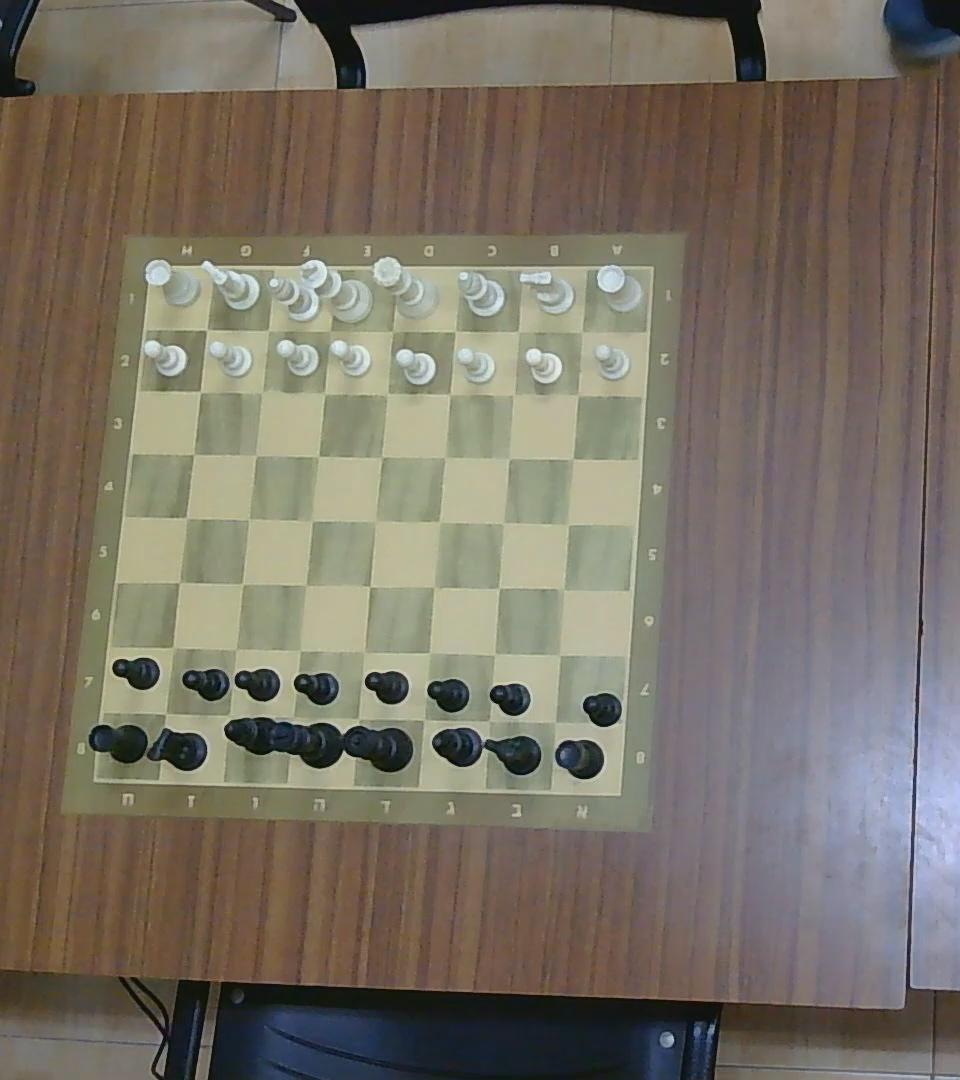xcorner: (345, 707, 369, 733), (154, 701, 178, 725), (217, 703, 240, 727), (543, 711, 568, 733), (476, 709, 499, 731), (319, 319, 341, 341), (288, 639, 311, 659), (169, 571, 189, 592), (413, 710, 434, 730), (246, 443, 266, 464), (365, 511, 386, 531), (225, 639, 245, 659), (183, 443, 202, 464), (177, 507, 196, 528), (164, 637, 183, 658), (296, 575, 315, 595), (445, 321, 465, 340), (440, 383, 459, 403), (483, 645, 503, 664), (423, 577, 442, 597), (504, 383, 523, 403), (429, 511, 448, 531), (196, 319, 215, 338), (259, 321, 278, 340), (564, 449, 583, 468), (510, 321, 529, 340), (494, 513, 513, 532), (232, 574, 251, 593), (420, 643, 439, 662), (382, 321, 401, 340), (550, 645, 569, 664), (354, 642, 374, 660), (315, 383, 333, 402), (371, 447, 389, 466), (361, 577, 379, 596), (377, 383, 395, 402), (240, 510, 258, 529), (559, 515, 578, 533), (573, 321, 591, 340), (570, 385, 588, 404), (489, 579, 507, 598), (555, 579, 573, 598), (435, 448, 453, 466), (500, 448, 518, 466), (190, 382, 208, 400), (253, 382, 271, 400), (303, 510, 320, 529), (309, 446, 326, 464)
